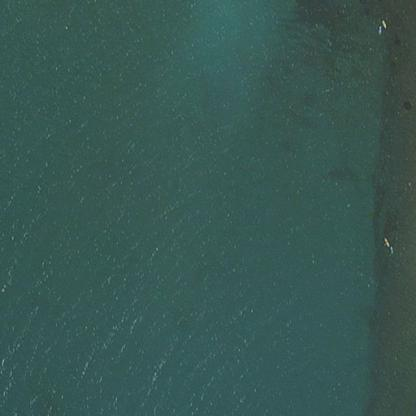ship: (390, 244, 392, 253), (373, 241, 381, 242), (380, 22, 385, 23)
